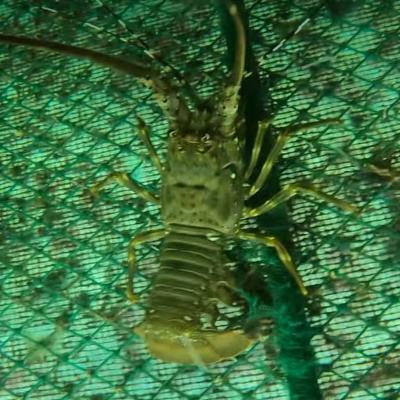lobster: (134, 78, 255, 342)
